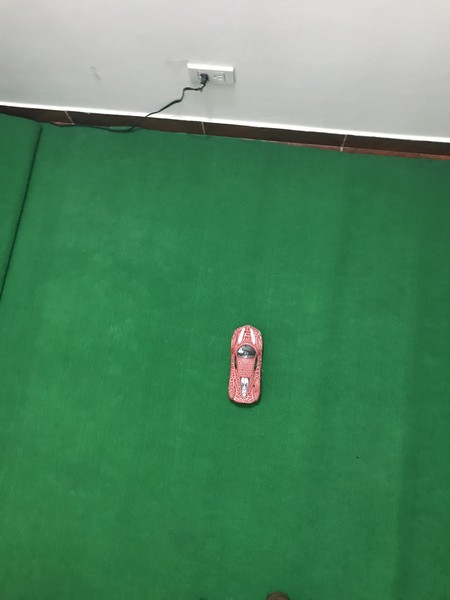RC: (226, 324, 267, 407)
